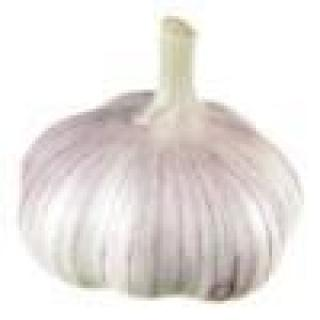Bawang Putih: (20, 17, 308, 302)
